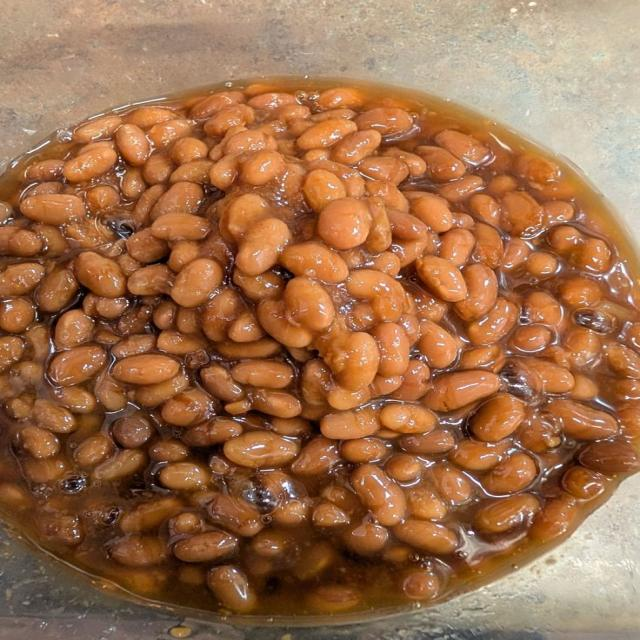beans: (0, 84, 639, 613), (350, 464, 406, 526), (236, 218, 291, 275), (325, 332, 379, 389), (425, 371, 499, 412), (347, 269, 404, 321), (545, 399, 618, 439), (224, 432, 299, 468), (318, 198, 370, 249), (470, 394, 525, 442), (257, 300, 313, 347), (474, 494, 539, 534), (171, 259, 222, 308), (454, 264, 497, 320), (467, 298, 518, 345), (207, 494, 263, 536), (75, 252, 126, 298), (393, 519, 459, 554), (482, 453, 537, 495), (119, 497, 183, 533), (530, 494, 579, 541), (207, 566, 256, 613), (49, 346, 106, 386), (416, 256, 466, 301), (20, 194, 86, 225), (113, 354, 179, 385), (500, 191, 543, 238), (297, 119, 362, 150), (150, 183, 203, 221), (372, 322, 409, 376), (161, 388, 212, 427), (63, 147, 118, 183), (579, 441, 639, 474), (417, 320, 458, 368), (174, 531, 237, 562), (302, 170, 346, 213), (435, 130, 489, 165), (320, 408, 379, 440), (450, 439, 510, 470), (291, 437, 339, 475), (36, 269, 78, 312), (416, 146, 466, 182), (111, 534, 165, 567), (181, 417, 242, 446), (231, 360, 293, 388), (430, 464, 473, 504), (332, 130, 381, 165), (93, 450, 146, 482), (355, 107, 413, 136), (380, 403, 436, 433), (151, 213, 211, 241), (392, 358, 430, 401), (307, 584, 361, 614), (240, 150, 285, 186), (473, 223, 507, 269), (200, 365, 243, 401), (0, 263, 45, 297), (54, 310, 93, 349), (189, 92, 245, 119), (159, 462, 210, 491), (562, 466, 605, 500), (407, 484, 447, 520), (127, 229, 169, 263), (399, 430, 455, 455), (115, 124, 149, 165), (345, 523, 388, 555), (359, 156, 408, 184), (252, 389, 301, 417), (440, 228, 475, 267), (515, 154, 559, 185), (522, 292, 562, 326), (112, 415, 153, 448), (148, 119, 192, 149), (19, 426, 59, 459), (560, 277, 602, 308), (0, 227, 44, 256), (74, 116, 121, 143), (439, 175, 484, 203), (605, 344, 639, 378), (0, 299, 34, 333), (340, 438, 386, 463), (511, 325, 552, 353), (402, 571, 439, 600), (386, 454, 423, 482), (170, 137, 208, 164), (125, 107, 176, 127), (317, 88, 364, 109), (469, 194, 499, 224), (313, 504, 350, 528), (0, 337, 25, 372), (149, 440, 188, 462), (26, 160, 63, 182), (618, 406, 639, 438)
